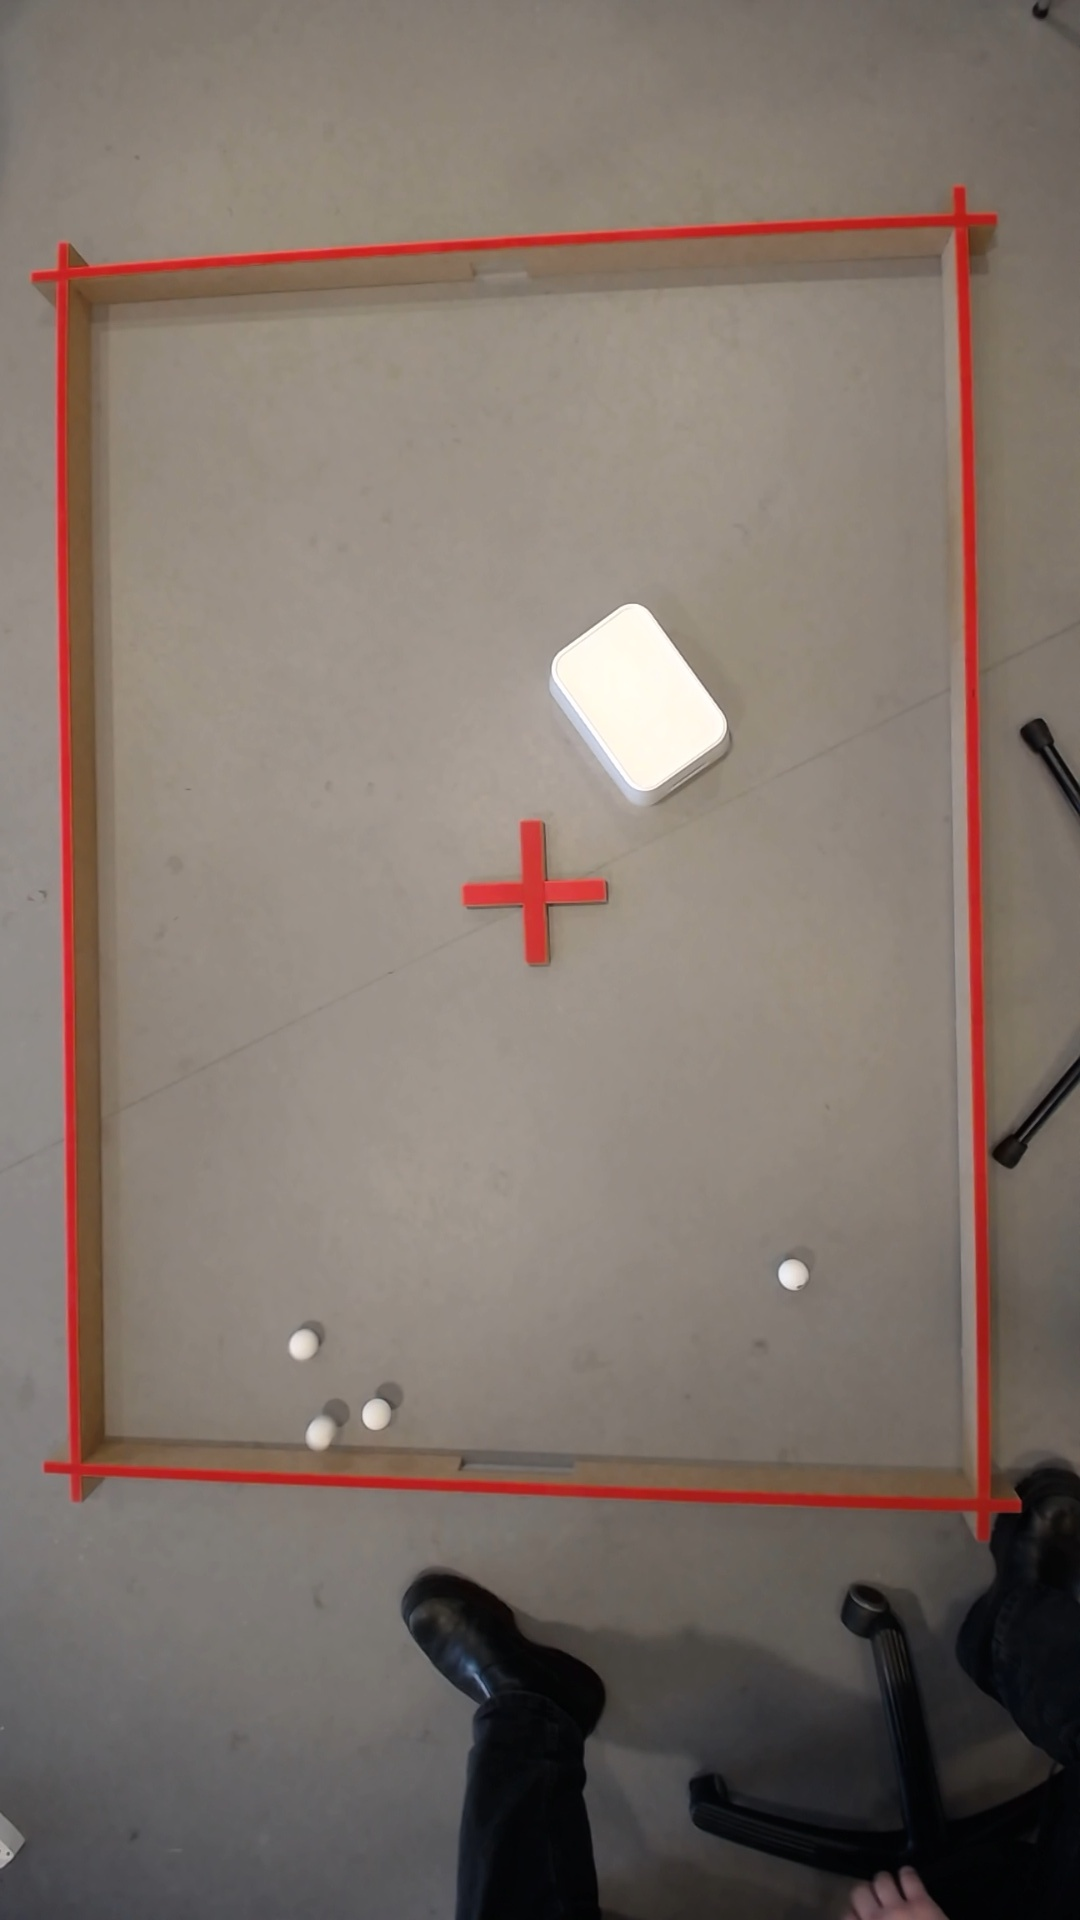balls: (533, 592, 736, 804), (771, 1255, 808, 1292), (355, 1396, 392, 1432), (289, 1332, 311, 1358)
car: (306, 1420, 327, 1445)
